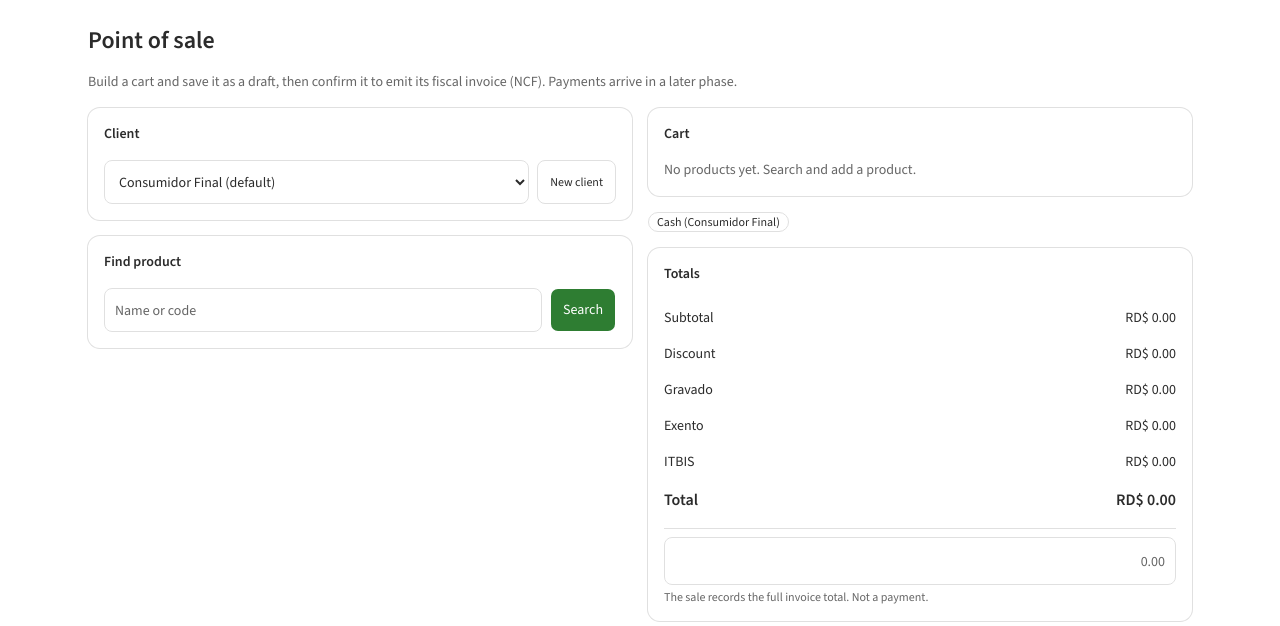
Scenario: PosScreen (R-V14) › live totals update when a line is added and when its quantity is edited
The width and height of the screenshot is (1280, 626).
Type "arroz" into the field named "Search products". click: (323, 310)
box: [104, 288, 542, 332]
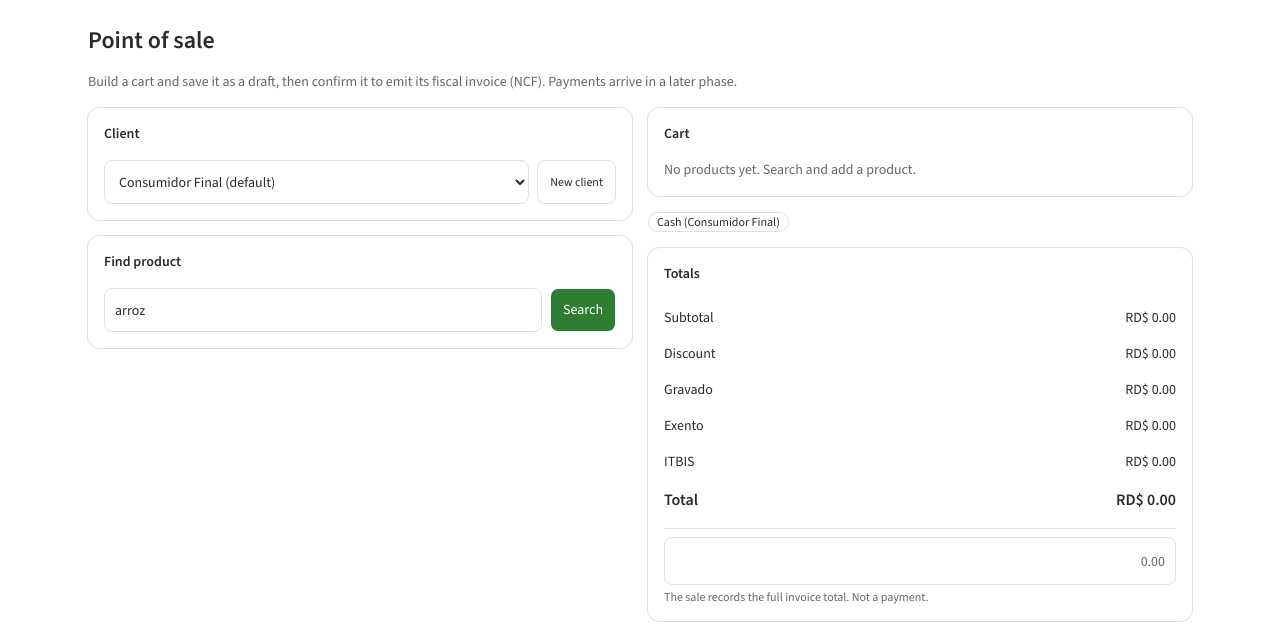
Click the button "Search". click: (583, 310)
box: [550, 288, 616, 332]
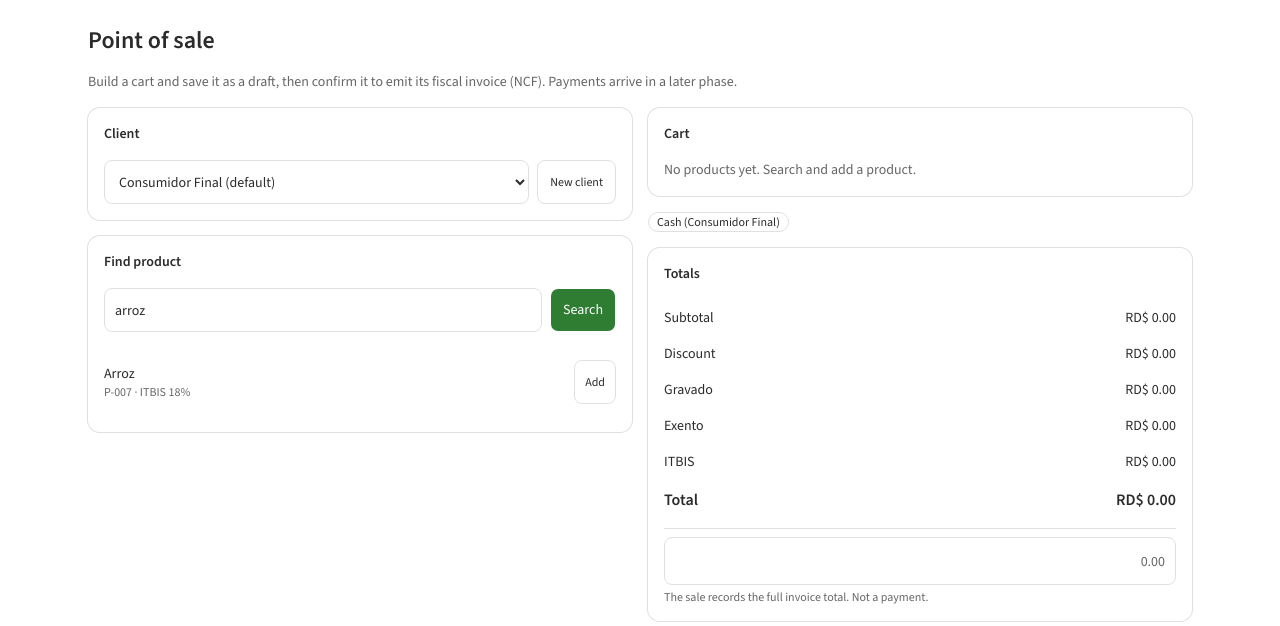
Click the button "Add". click: (595, 382)
box: [574, 360, 616, 404]
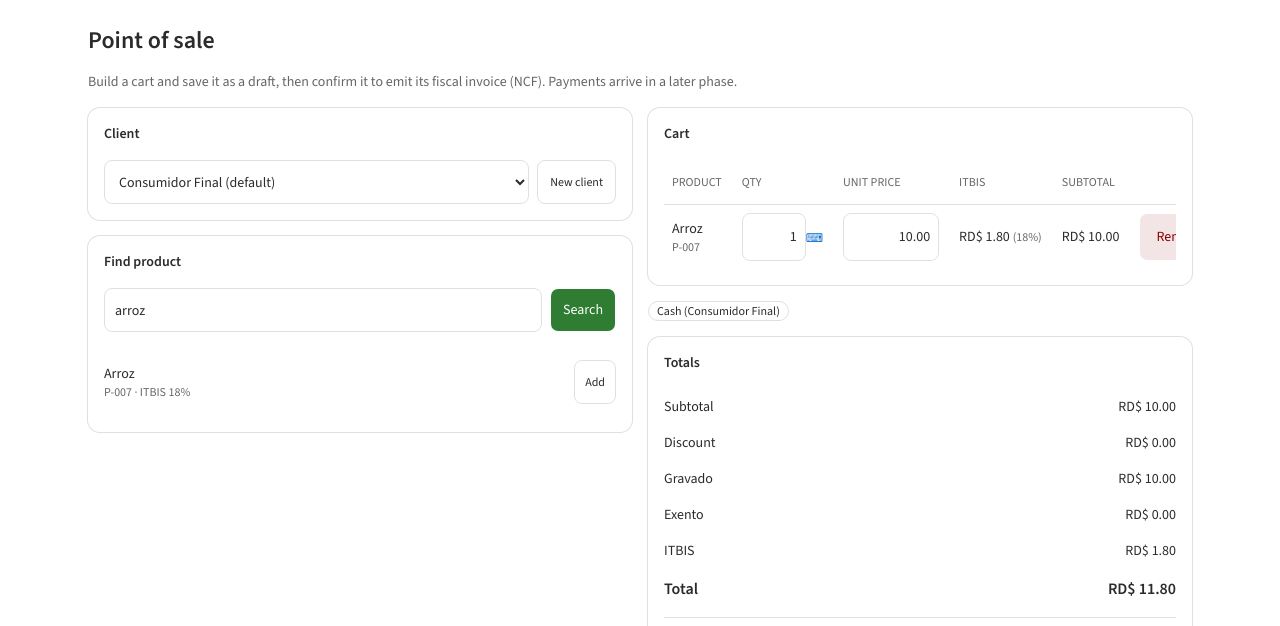
expect the text "RD$ 11.80" is shown: met, box [1108, 576, 1176, 600]
Replace the text in the field named "Quantity for Arroz" with "2". click: (774, 236)
box: [742, 212, 806, 260]
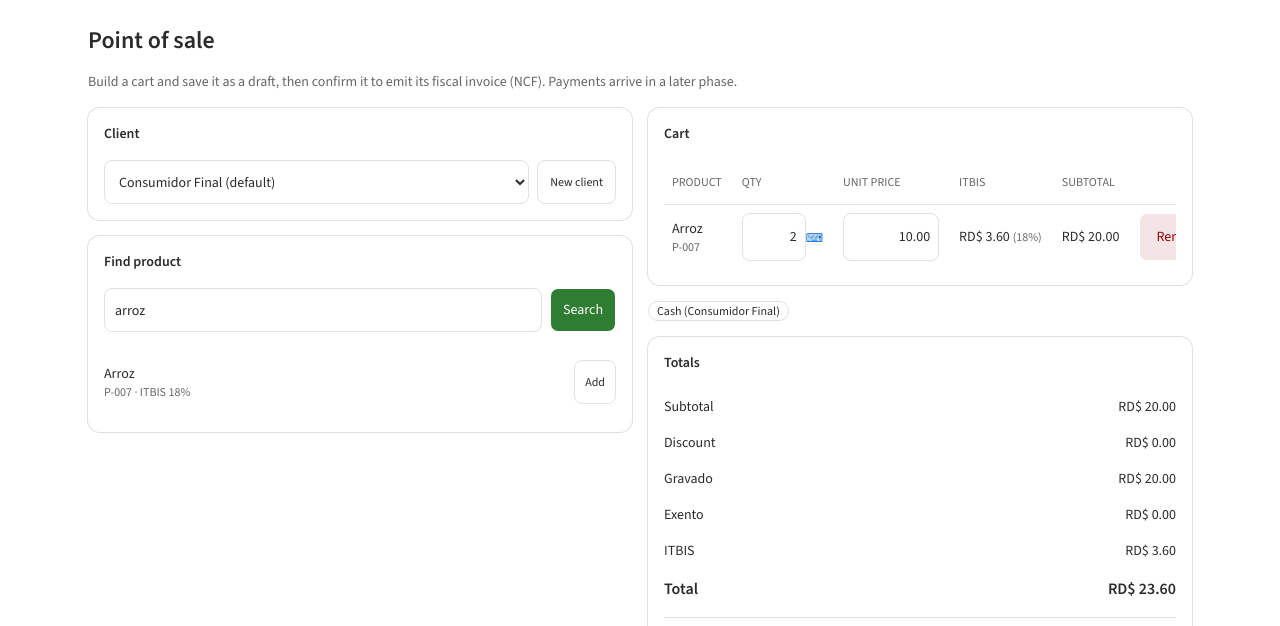
expect the text "RD$ 23.60" is shown: met, box [1108, 576, 1176, 600]
